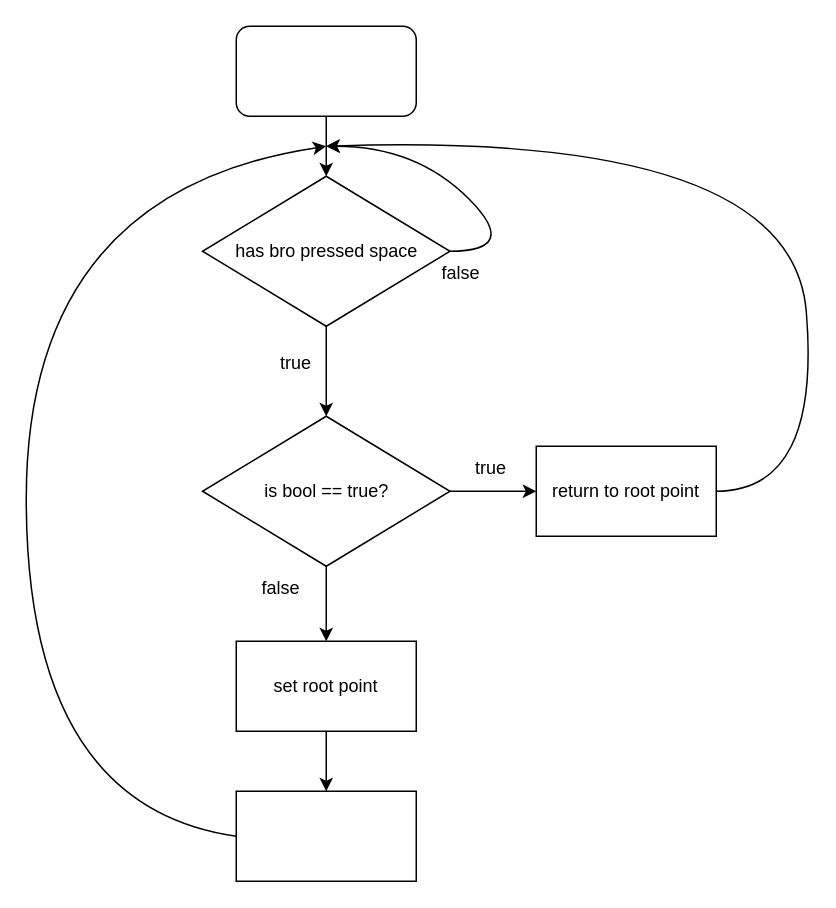
Some shapes in this 836 by 908 pixel diagram are drawn without their labels. The centre of each missing label's shape, as x and y in pixels:
set bool = true: [325,835]
start: [325,70]
